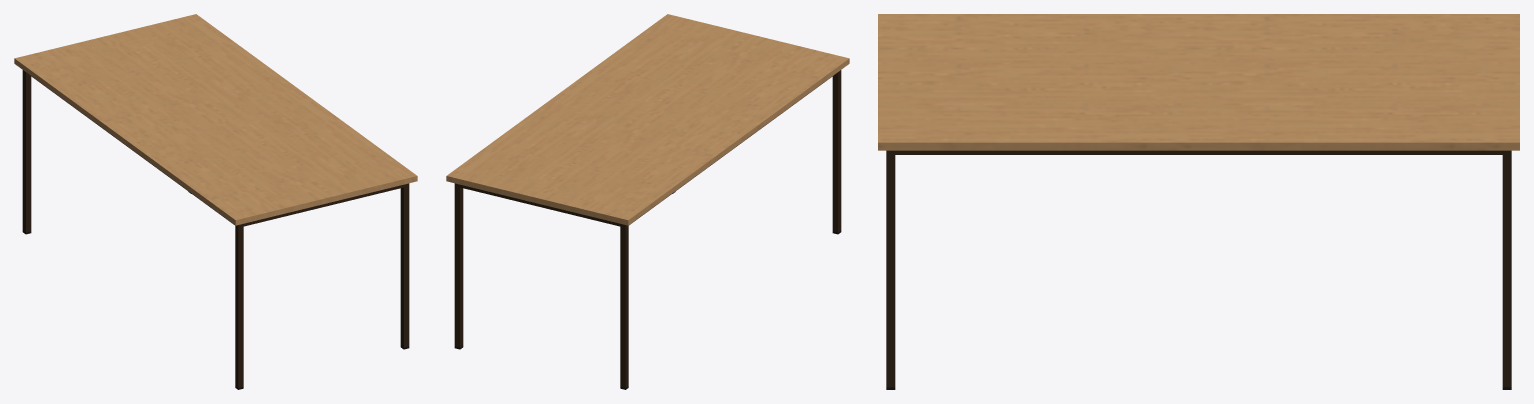
Rendered from Table.fbx.
3 views of the same model, side by side, from view 1: azimuth 30°, elevation 25°; view 2: azimuth 150°, elevation 25°; view 3: azimuth 270°, elevation 25° (orthographic). The views are drawn at different scales.
Visible parts, largest first — view 1: Table; view 2: Table; view 3: Table.
Part boxes in pixels (x1,y1,x2,y2): Table: (14, 14, 417, 389); Table: (446, 14, 849, 389); Table: (878, 14, 1519, 389).
Bounding box in the file's own units: 72.24 × 65.71 × 152.
